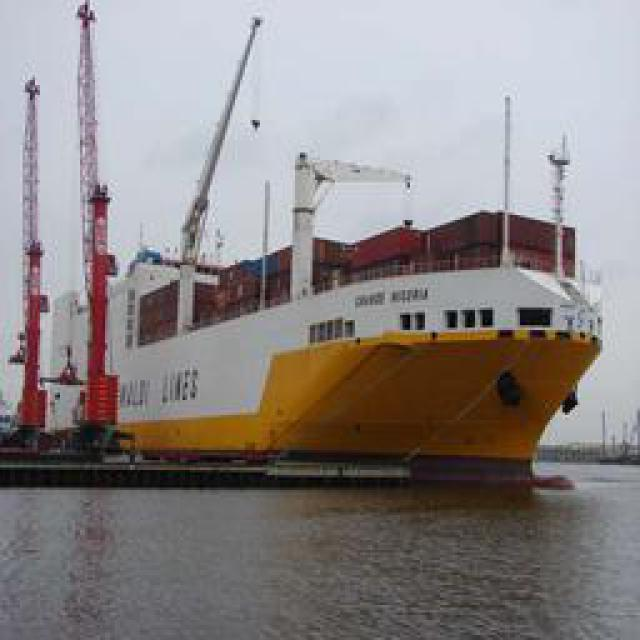Ship: (32, 15, 605, 475)
